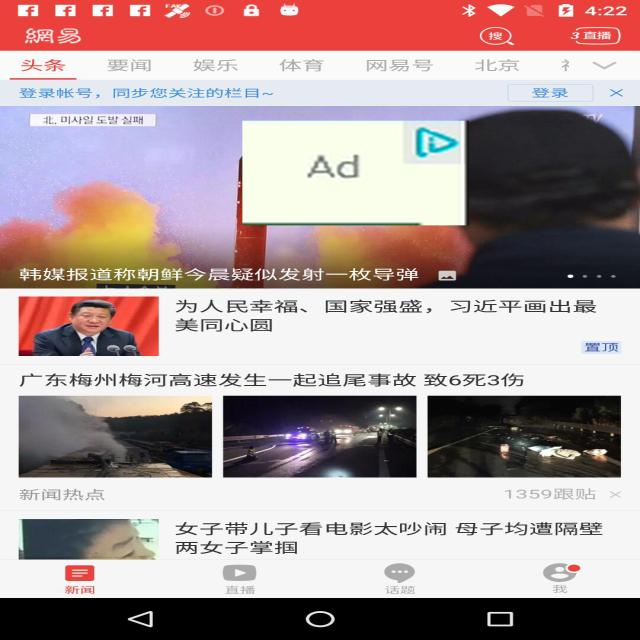sneaking: (242, 121, 469, 225)
